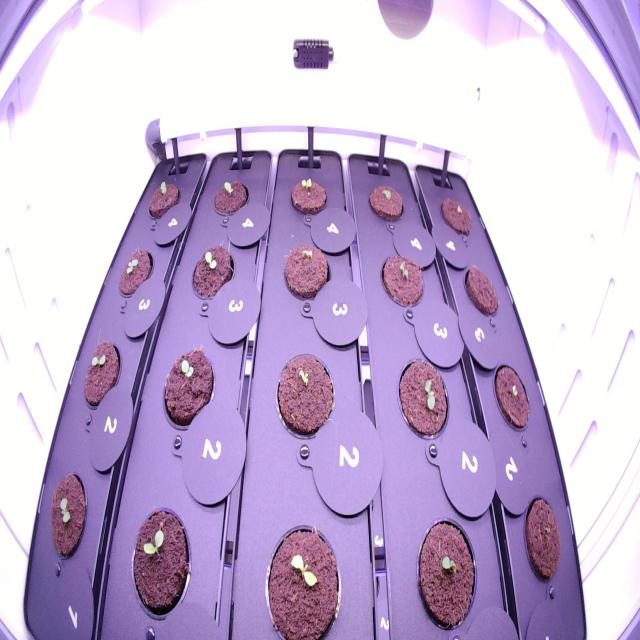germination: (257, 512, 346, 638), (410, 509, 482, 637), (125, 500, 195, 628), (271, 345, 339, 447), (393, 350, 454, 446), (158, 341, 218, 435), (44, 466, 89, 566), (277, 235, 336, 307), (489, 353, 536, 438), (376, 247, 428, 317), (79, 333, 124, 413), (186, 238, 238, 306), (362, 173, 410, 230), (284, 172, 333, 223), (114, 242, 156, 301), (144, 172, 185, 226), (208, 171, 252, 220)
pod: (518, 489, 566, 592), (459, 259, 503, 325), (437, 187, 480, 242)
